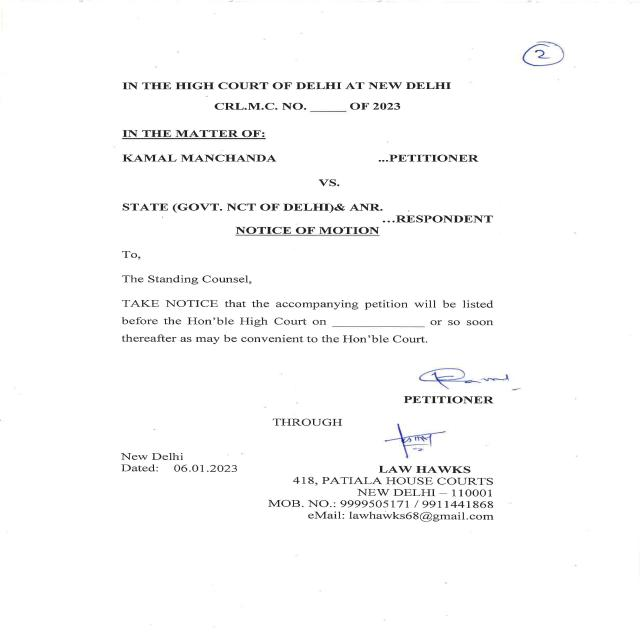page-number: (401, 0, 639, 75)
